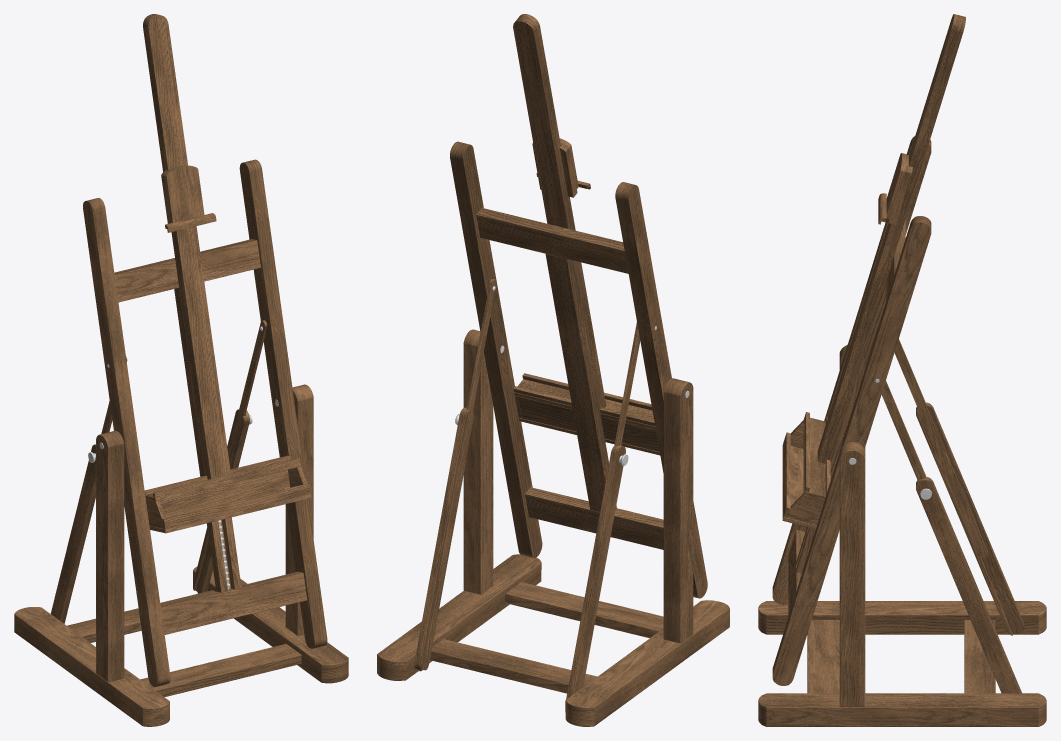
Rendered from easel.glb.
3 views of the same model, side by side, from view 1: azimuth 30°, elevation 25°; view 2: azimuth 150°, elevation 25°; view 3: azimuth 270°, elevation 25° (orthographic). The views are drawn at different scales.
Parts seen in each view (by area): view 1: Cube.060, Cube.040, Cube.061, Easel Top, Cube.062; view 2: Cube.060, Cube.040, Cube.062, Cube.061, Easel Top; view 3: Cube.040, Cube.060, Cube.061, Cube.062, Easel Top.
Boxes of the visible parts, left/top/right/bottom form: Cube.060: left=83, top=14, right=327, bottom=686; Cube.040: left=14, top=384, right=348, bottom=726; Cube.061: left=50, top=356, right=127, bottom=623; Easel Top: left=161, top=165, right=216, bottom=232; Cube.062: left=193, top=320, right=267, bottom=593; Cube.060: left=450, top=14, right=707, bottom=598; Cube.040: left=377, top=329, right=729, bottom=726; Cube.062: left=414, top=279, right=496, bottom=671; Cube.061: left=566, top=322, right=640, bottom=699; Easel Top: left=532, top=138, right=590, bottom=197; Cube.040: left=758, top=345, right=1046, bottom=726; Cube.060: left=772, top=14, right=965, bottom=685; Cube.061: left=894, top=339, right=1023, bottom=635; Cube.062: left=881, top=381, right=1021, bottom=693; Easel Top: left=878, top=153, right=912, bottom=224.
Size of the model in its own units: 0.6466 by 1.85 by 0.7347.
2 materials, 1 textured.
